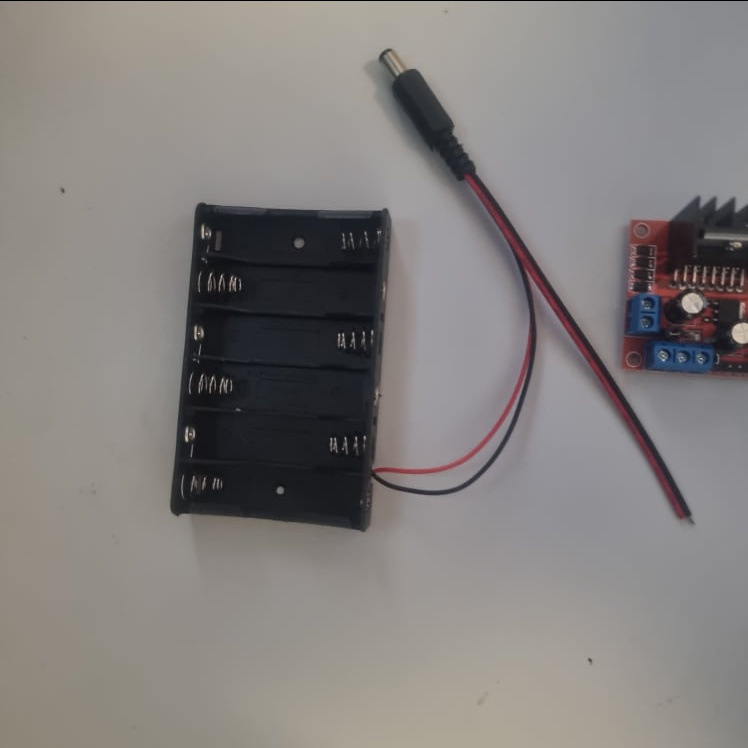BATTERY BOX: (169, 202, 389, 533)
MOTOR: (617, 193, 748, 375)
